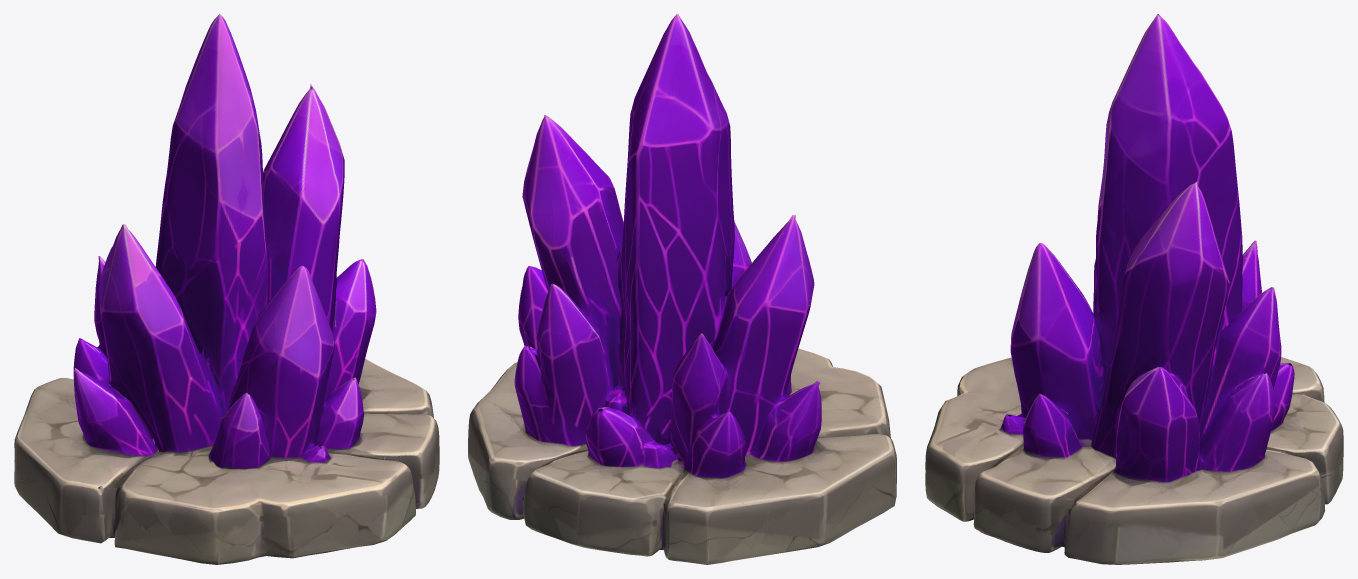
Rendered from VD_Obstacle_CrystalSpikes_01-0.fbx.
The picture shows the model from 3 angles, left to right: view 1: azimuth 30°, elevation 25°; view 2: azimuth 150°, elevation 25°; view 3: azimuth 270°, elevation 25°; orthographic projection. The views are drawn at different scales.
Parts seen in each view (by area): view 1: Mesh0; view 2: Mesh0; view 3: Mesh0.
Boxes of the visible parts, left/top/right/bottom form: Mesh0: left=14, top=14, right=439, bottom=564; Mesh0: left=468, top=14, right=896, bottom=564; Mesh0: left=925, top=14, right=1343, bottom=564.
Bounding box in the file's own units: 128 × 150 × 123.
1 material, 1 textured.
